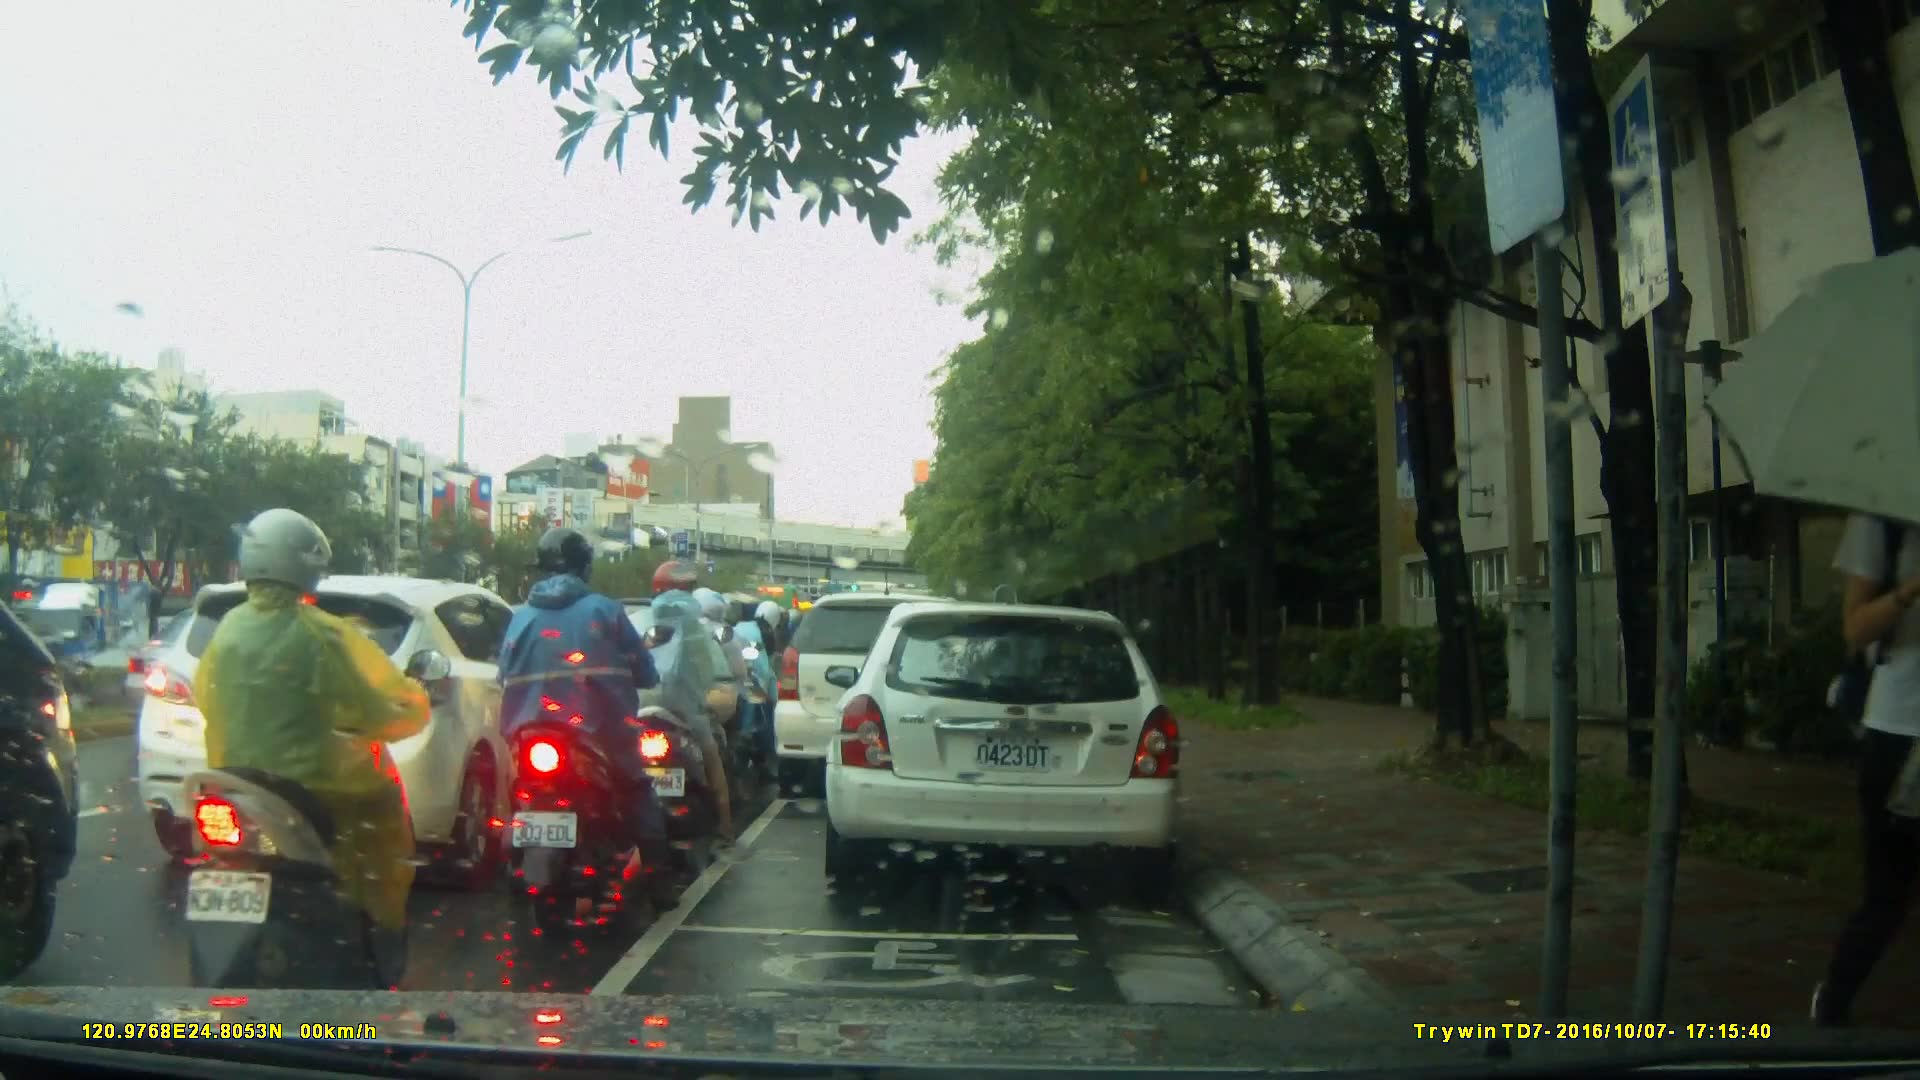pedestrian: (1828, 401, 1920, 1027)
rider: (168, 500, 451, 1028), (494, 525, 682, 922), (602, 560, 739, 853), (644, 581, 763, 823), (720, 594, 788, 767)
vehicle: (136, 571, 590, 879), (822, 604, 1188, 883), (774, 595, 995, 802), (75, 610, 306, 715), (20, 576, 199, 697)
